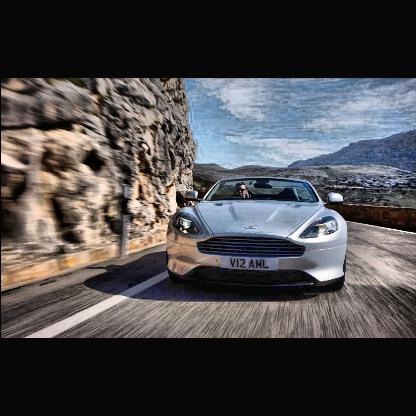Aston Martin Virage Convertible 2012: (166, 177, 348, 289)
